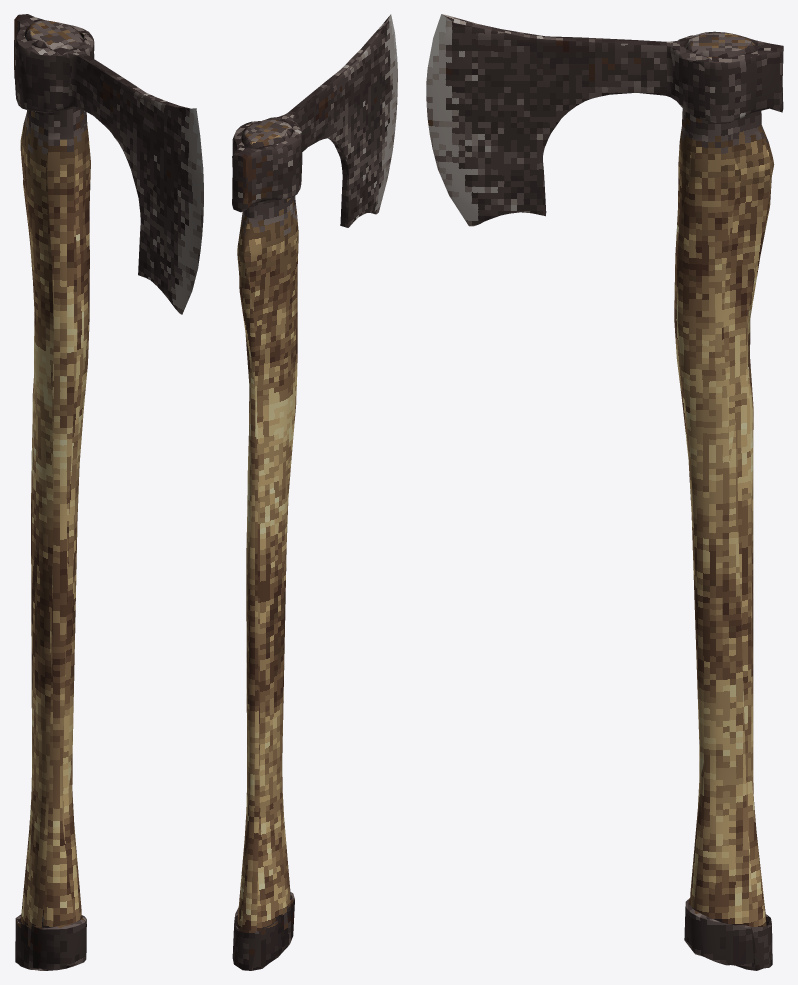
File: wooden_axe.glb
The picture shows the model from 3 angles, left to right: view 1: azimuth 30°, elevation 25°; view 2: azimuth 150°, elevation 25°; view 3: azimuth 270°, elevation 25°; orthographic projection. The views are drawn at different scales.
Visible parts, largest first — view 1: body; view 2: body; view 3: body.
Boxes of the visible parts, <box> form: body: <box>14,14,203,970</box>; body: <box>232,14,397,970</box>; body: <box>426,14,783,970</box>.
Size of the model in its own units: 0.0473 by 0.6303 by 0.2146.
Materials: 1 (1 with a texture image).
